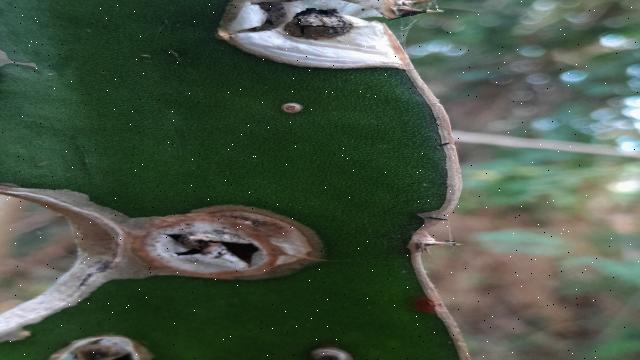stemcanker: (2, 180, 329, 329), (209, 1, 408, 67), (280, 101, 305, 115)
